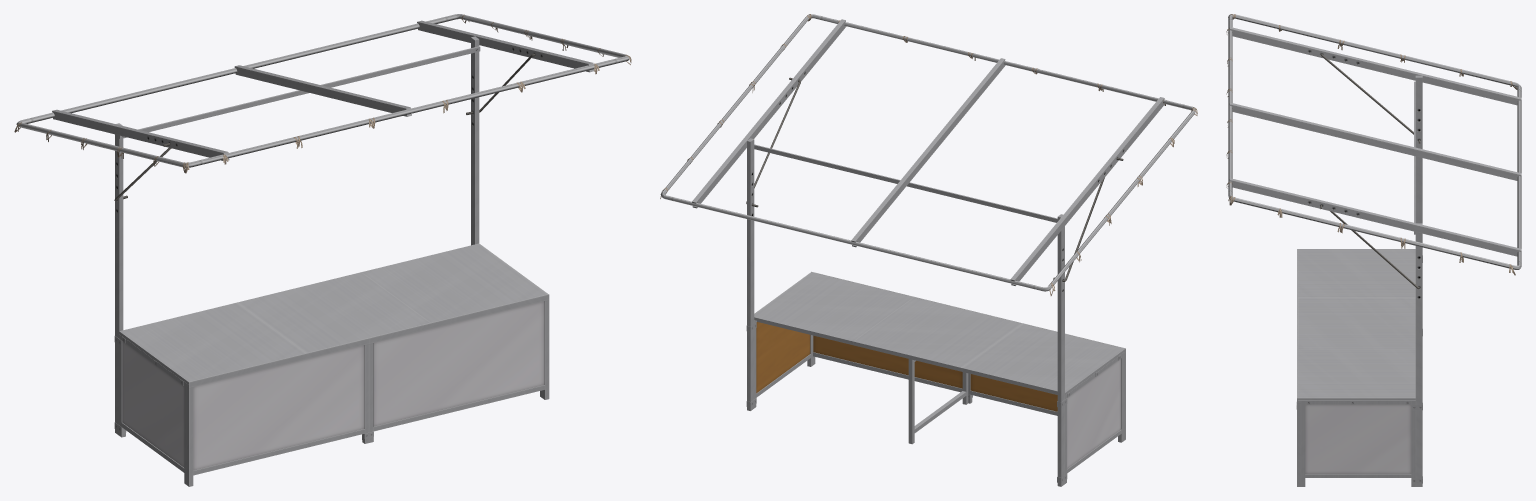
The model's file is jsf_2P_s03_c04_t01.fbx.
3 renders of one model, left to right at view 1: azimuth 30°, elevation 25°; view 2: azimuth 150°, elevation 25°; view 3: azimuth 270°, elevation 25°, orthographic. The views are drawn at different scales.
Parts seen in each view (by area): view 1: Base_s03_c04, Table_2P_s03_t01, Pillar2_s03, Rope_2P_s03; view 2: Table_2P_s03_t01, Pillar2_s03, Base_s03_c04, Support; view 3: Table_2P_s03_t01, Pillar2_s03, Base_s03_c04, Rope_2P_s03.
Part boxes in pixels (x1,y1,x2,y2): Base_s03_c04: (114, 294, 549, 486); Table_2P_s03_t01: (119, 243, 547, 385); Pillar2_s03: (16, 14, 629, 435); Rope_2P_s03: (14, 14, 631, 173); Table_2P_s03_t01: (754, 272, 1125, 397); Pillar2_s03: (660, 14, 1196, 486); Base_s03_c04: (746, 271, 1125, 483); Support: (908, 359, 968, 444); Table_2P_s03_t01: (1298, 249, 1415, 404); Pillar2_s03: (1228, 14, 1521, 486); Base_s03_c04: (1296, 249, 1422, 486); Rope_2P_s03: (1226, 14, 1517, 275).
Size of the model in its own units: 316 by 244 by 211.
